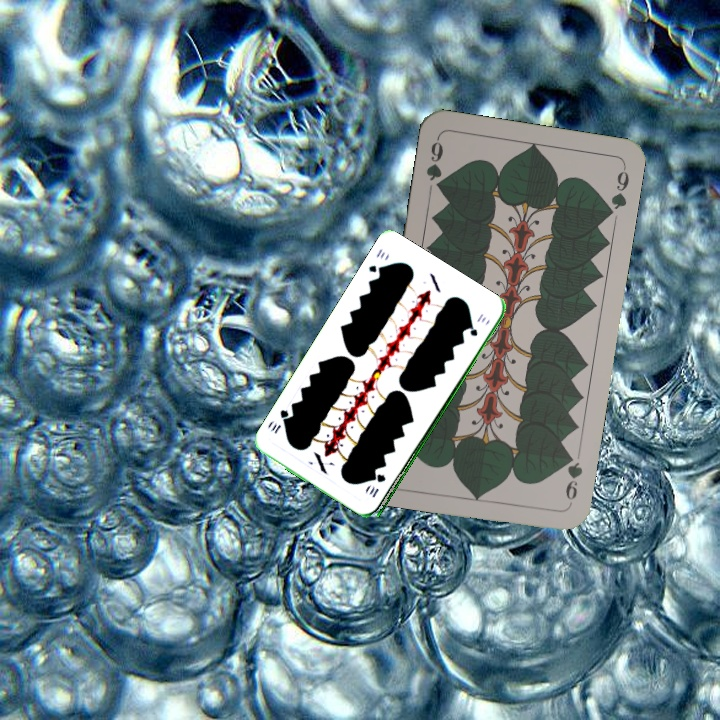G10: (365, 245, 387, 278), (365, 470, 388, 500)
G9: (422, 134, 446, 194), (561, 448, 585, 508)
